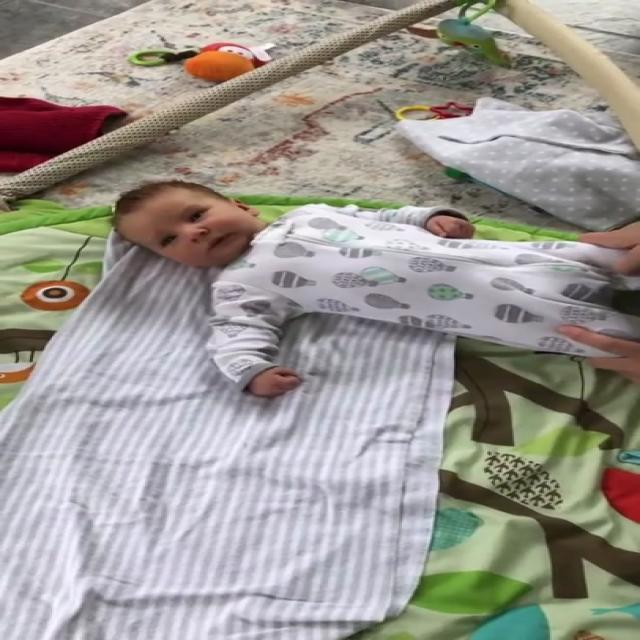baby: (110, 177, 640, 409)
